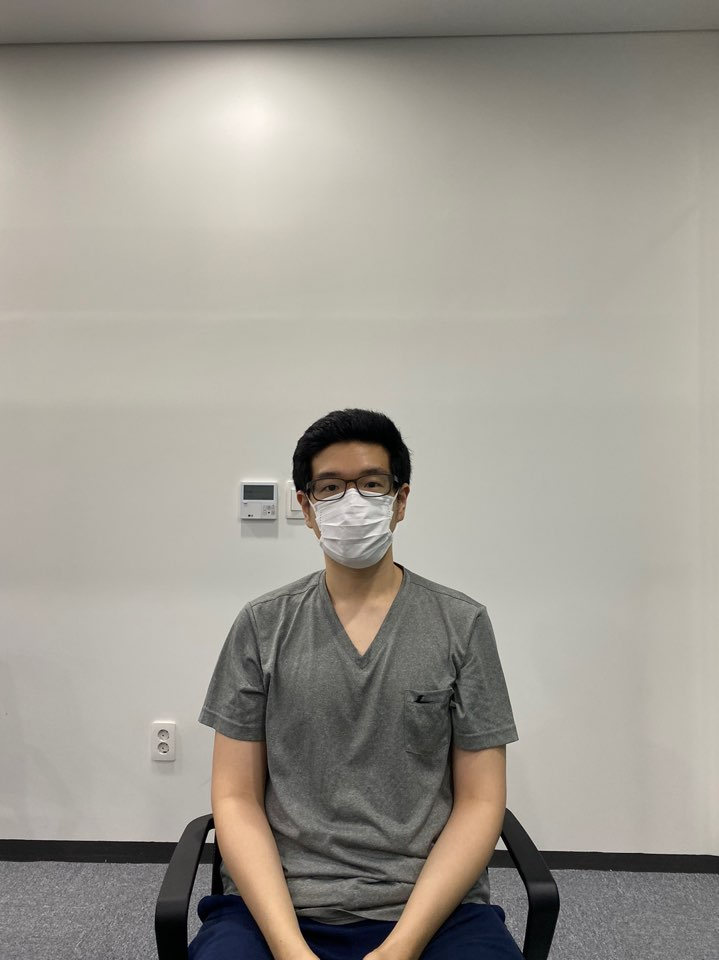mask: (312, 443, 400, 575)
